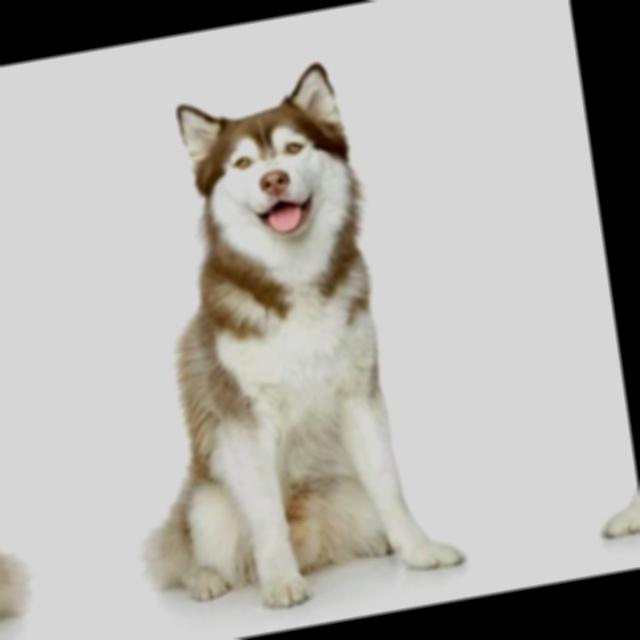dog: (59, 13, 490, 628), (506, 0, 640, 549), (0, 90, 55, 640)
